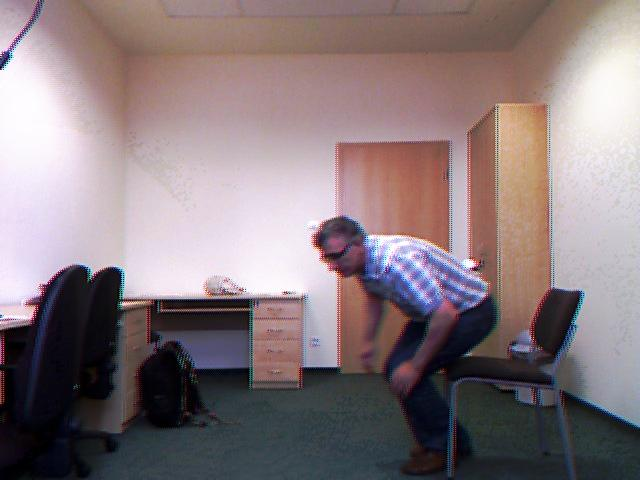near-fall: (301, 208, 521, 480)
